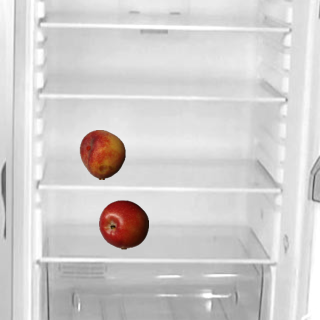Apple Braeburn: (98, 199, 148, 249)
Peach: (77, 129, 127, 179)
